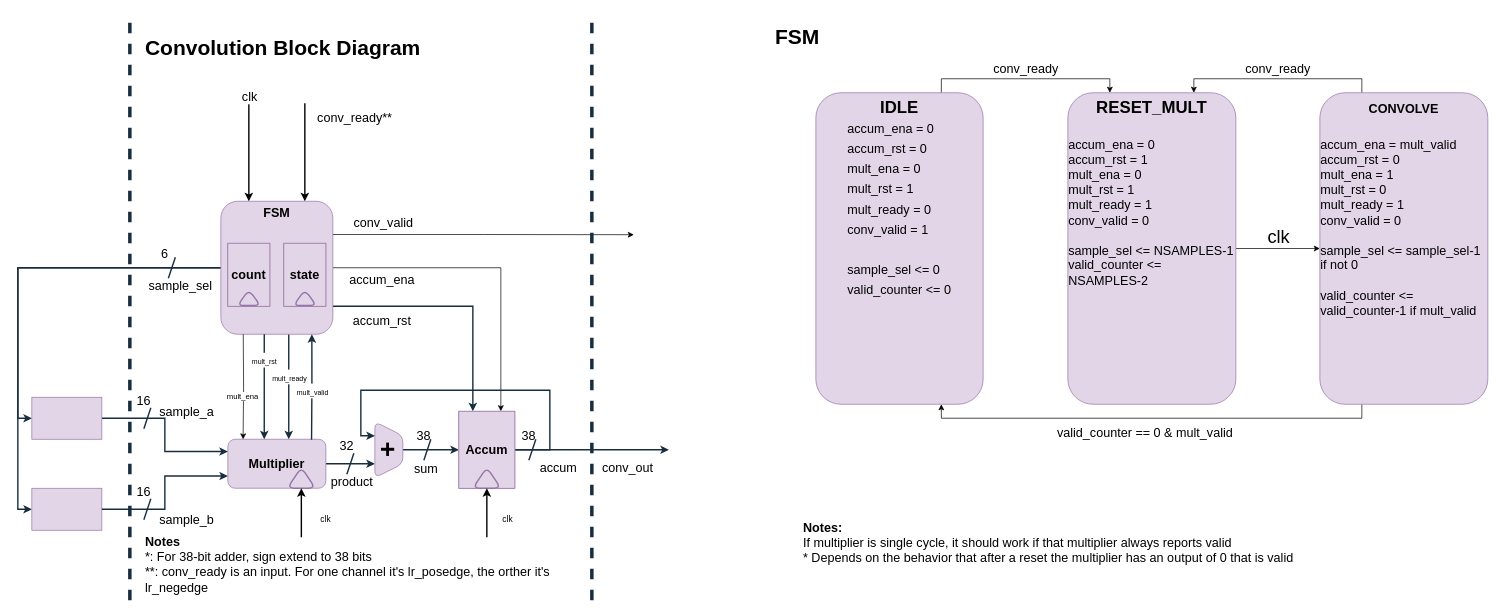
This 1500x615 diagram has some shape labels left out. Here are the shapes that lost their labels. From the top down, the centre of each, then its label:
the point at 66,418: Buffer
the point at 66,509: Impulse
